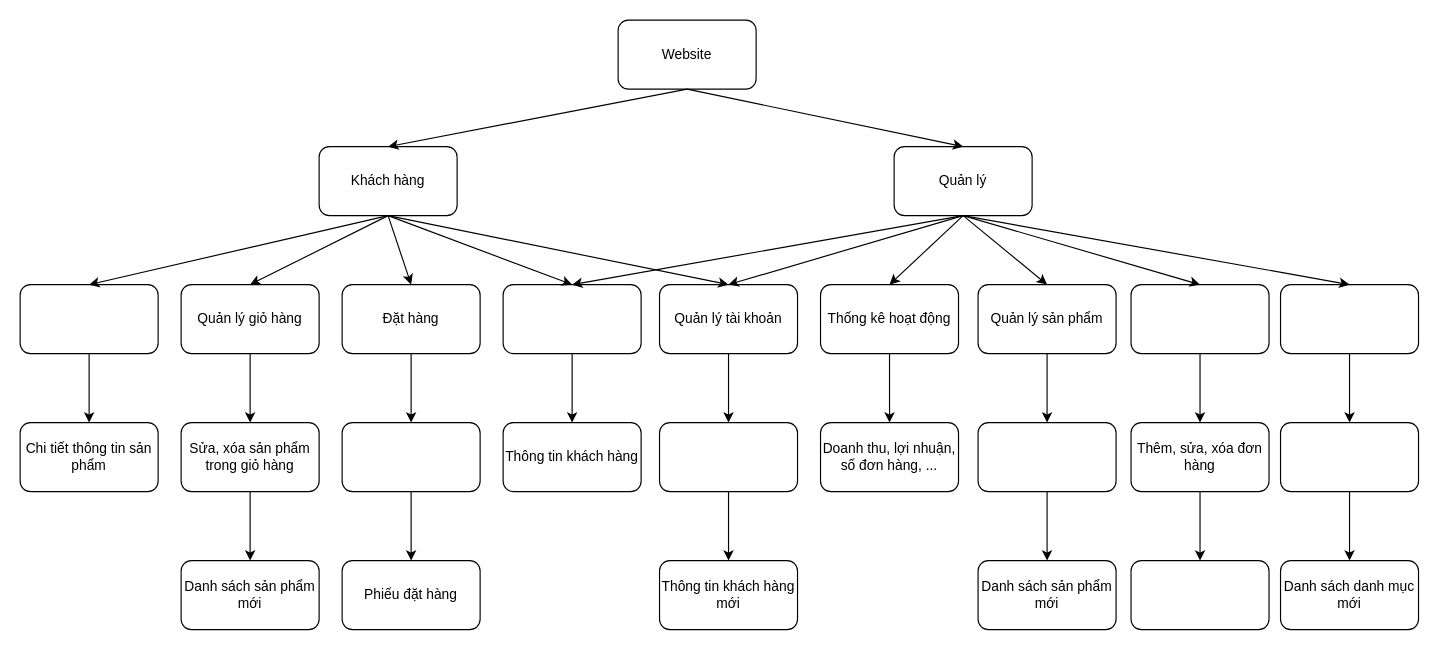
This 1439x650 diagram has some shape labels left out. Each missing label, with the centre of its shape:
"Danh sách đơn mới" goes at pixel 1199 594.
"Quản lý danh mục" goes at pixel 1349 318.
"Quản lý đơn hàng" goes at pixel 1199 318.
"Thanh toán" goes at pixel 410 456.
"Thêm, sửa , xóa thông tin, khách hàng" goes at pixel 728 456.
"Thêm, sửa, xóa danh mục" goes at pixel 1349 456.
"Thêm, sửa, xóa sản phẩm" goes at pixel 1046 456.
"Xem và tìm kiếm" goes at pixel 88 318.
"Đăng nhập và đăng ký" goes at pixel 571 318.
